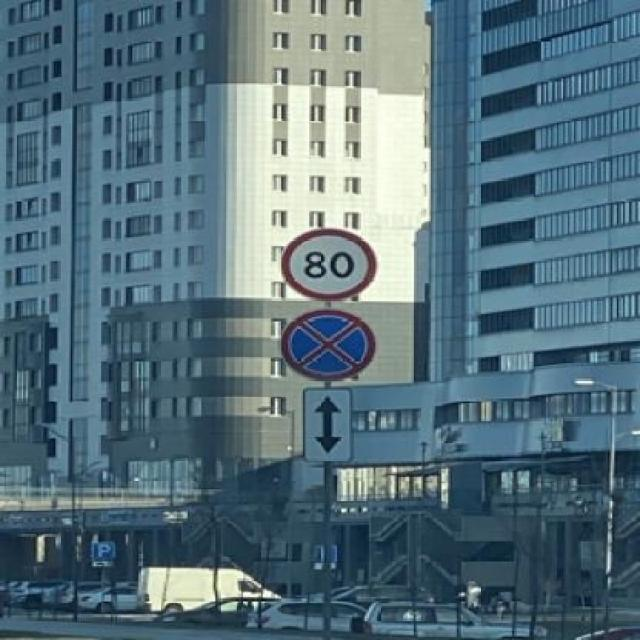forb_speed_over_80: (285, 226, 373, 302)
